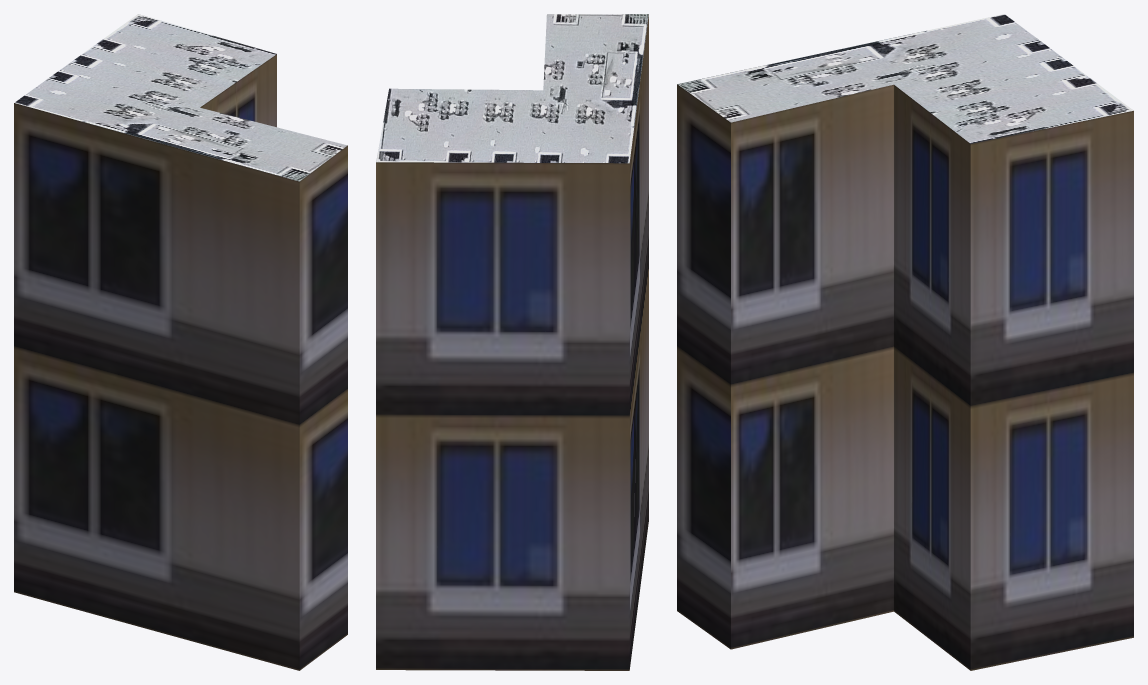
The model's file is ResTex__64.fbx.
3 views of the same model, side by side, from view 1: azimuth 30°, elevation 25°; view 2: azimuth 150°, elevation 25°; view 3: azimuth 270°, elevation 25° (orthographic). The views are drawn at different scales.
Parts seen in each view (by area): view 1: CityEngineMaterial_5_m, CityEngineMaterial_m; view 2: CityEngineMaterial_5_m, CityEngineMaterial_m; view 3: CityEngineMaterial_5_m, CityEngineMaterial_m.
Boxes of the visible parts, box(x1,y1,x2,y2) form: CityEngineMaterial_5_m: box(14, 54, 347, 670); CityEngineMaterial_m: box(14, 14, 347, 181); CityEngineMaterial_5_m: box(376, 14, 648, 670); CityEngineMaterial_m: box(376, 14, 648, 163); CityEngineMaterial_5_m: box(677, 84, 1133, 670); CityEngineMaterial_m: box(677, 14, 1133, 143).
Bounding box in the file's own units: 3.17 × 6 × 4.71.
2 materials, 2 textured.
